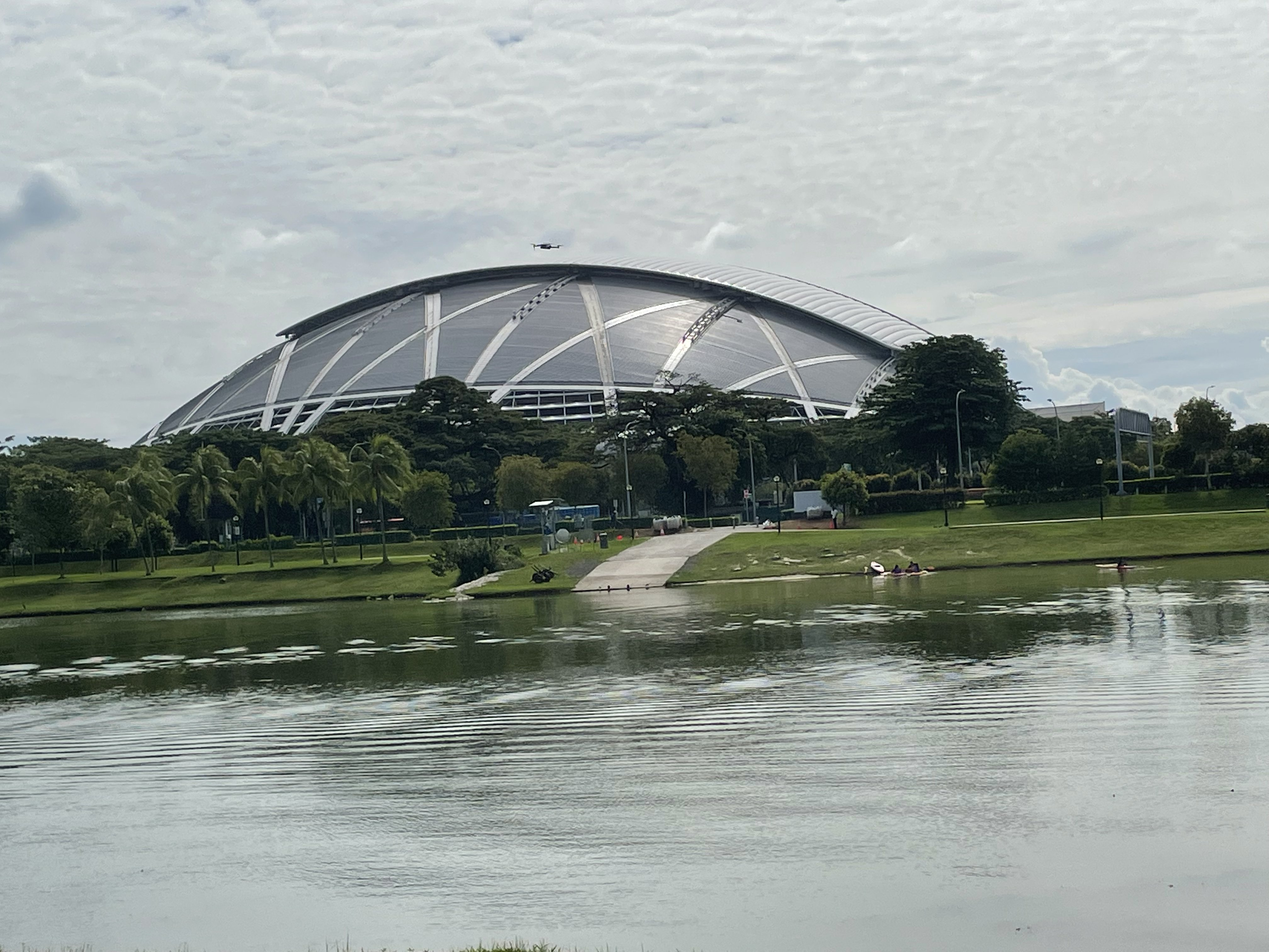drone_other: (529, 238, 564, 253)
